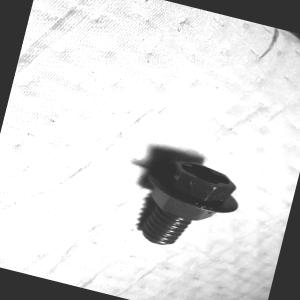parafuso: (128, 151, 246, 261)
